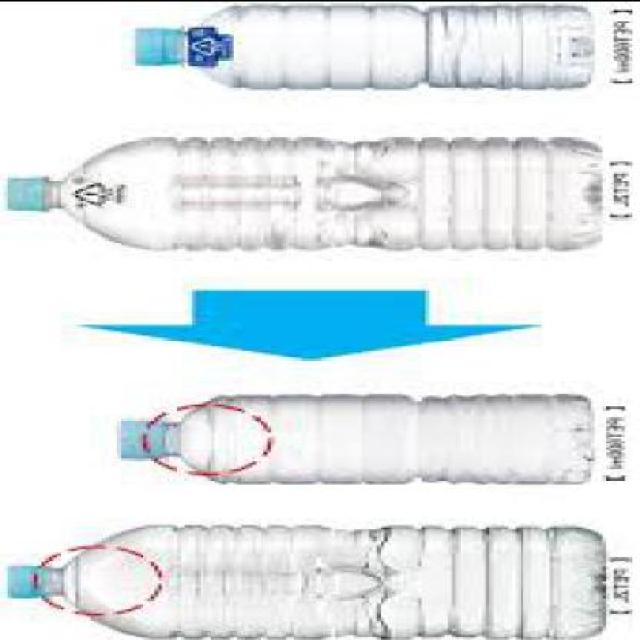PLASTIC: (4, 519, 602, 638), (0, 131, 598, 250), (113, 390, 595, 481), (128, 2, 592, 86), (113, 416, 165, 455), (128, 24, 181, 61), (0, 172, 49, 210), (4, 560, 41, 597)
